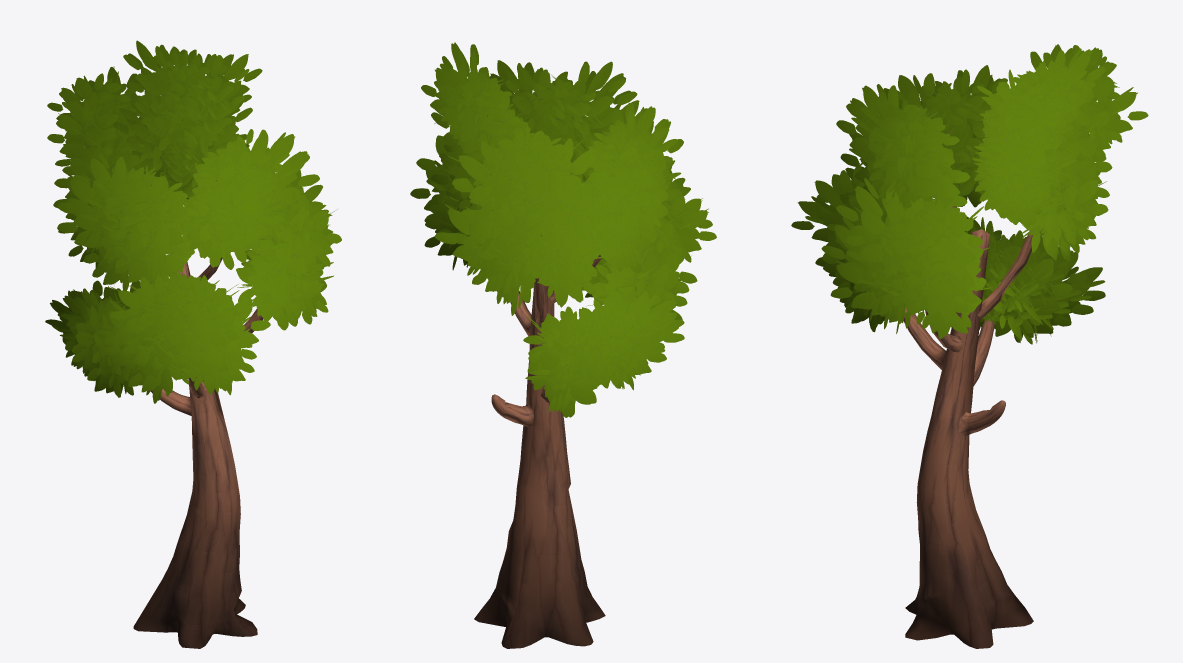
Rendered from common-tree-5.glb.
3 views of the same model, side by side, from view 1: azimuth 30°, elevation 25°; view 2: azimuth 150°, elevation 25°; view 3: azimuth 270°, elevation 25° (orthographic). The views are drawn at different scales.
Visible parts, largest first — view 1: CommonTree_5; view 2: CommonTree_5; view 3: CommonTree_5.
Boxes of the visible parts, x1,y1,x2,y2 form: CommonTree_5: [45, 40, 341, 648]; CommonTree_5: [410, 42, 716, 648]; CommonTree_5: [791, 44, 1148, 648].
Size of the model in its own units: 3.67 by 7.01 by 4.22.
Materials: 2 (2 with a texture image).
